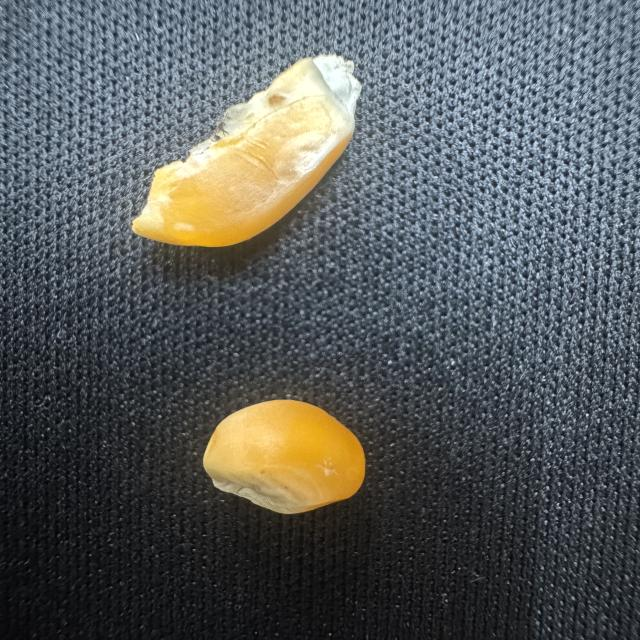Bad-Seed: (122, 47, 371, 253), (196, 392, 376, 522)
